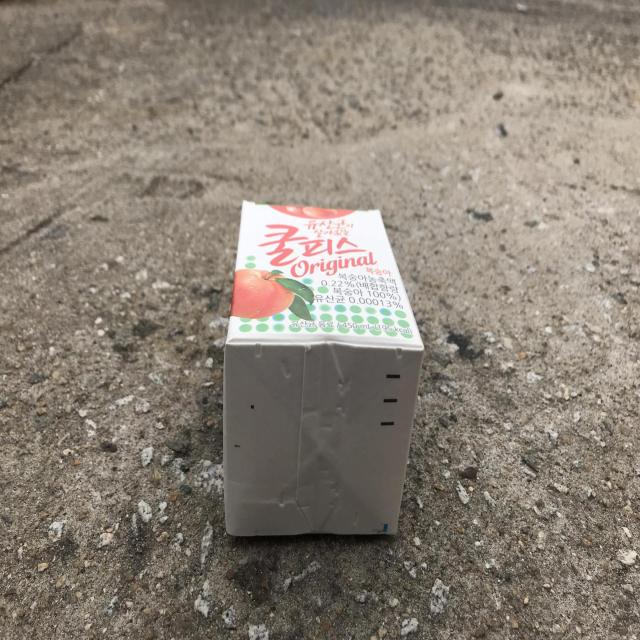paperpack: (223, 201, 424, 537)
